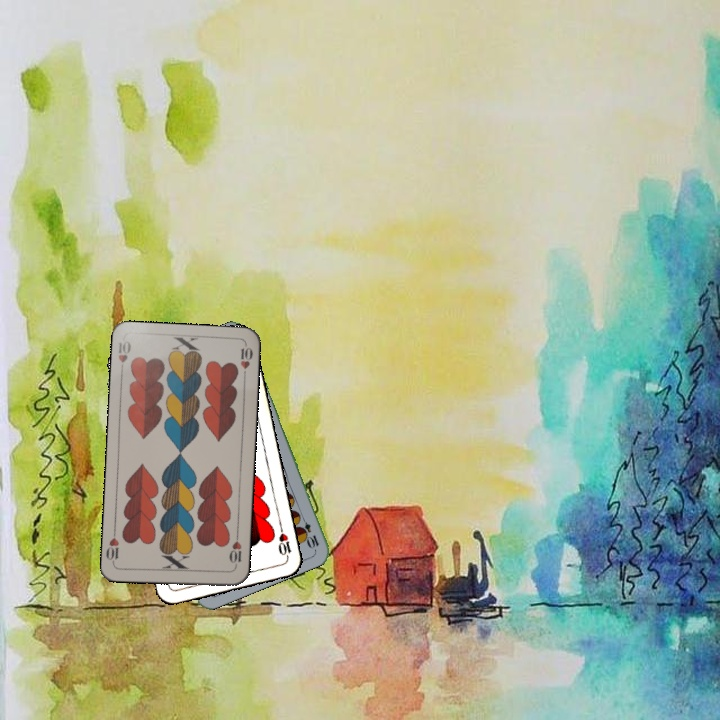E10: (296, 512, 322, 551)
H10: (274, 522, 294, 562), (114, 337, 134, 376), (225, 530, 244, 571)
